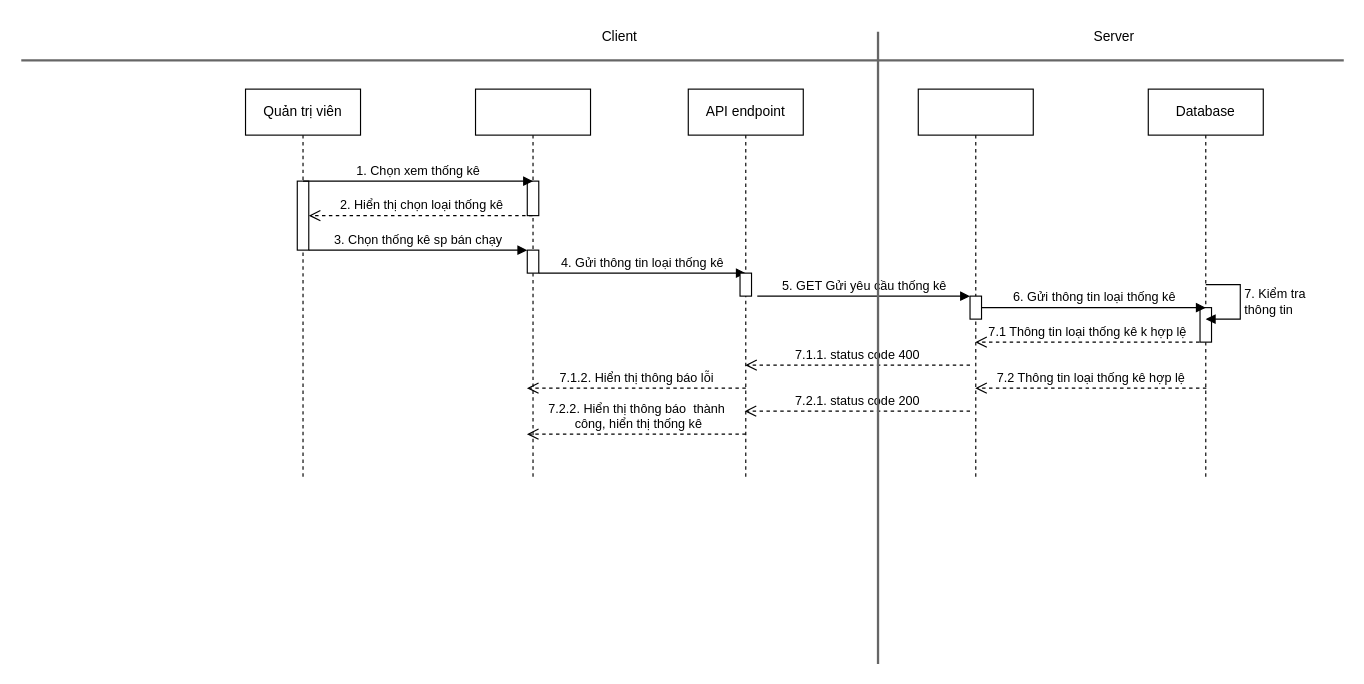
The diagram is 1364 pixels wide and 684 high, and some of its shapes have lost their labels. Here are the shapes that lost their labels. From the top down, the box of each, then its label:
(474, 88, 591, 480): Form
(917, 88, 1033, 480): Controller
